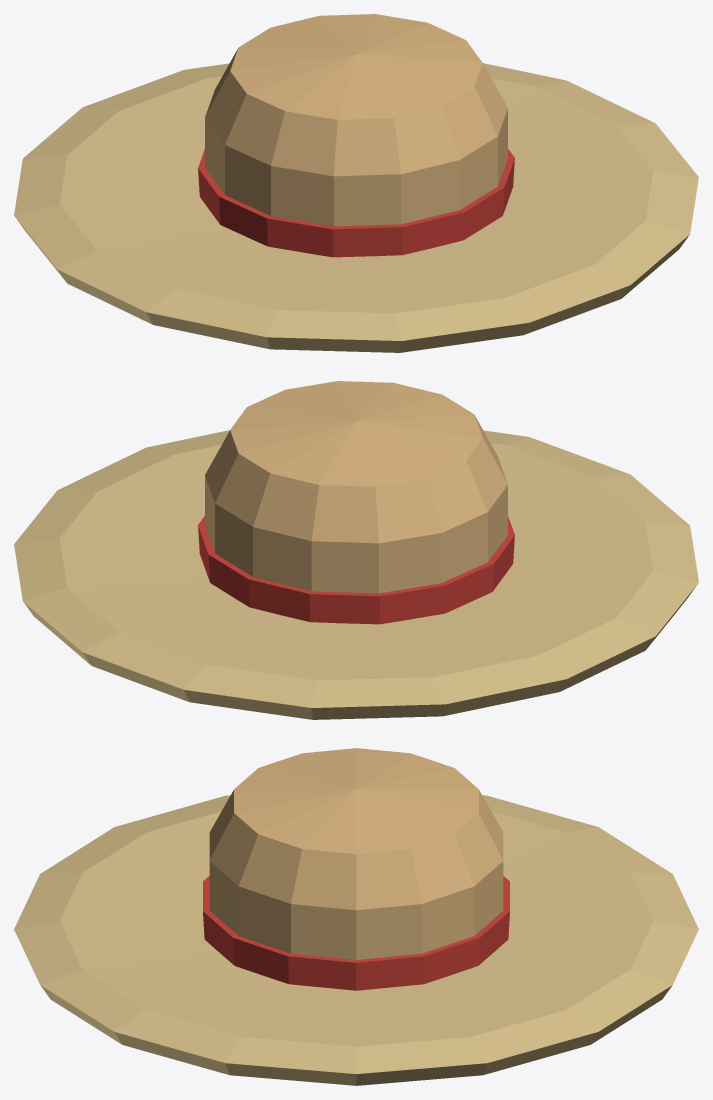
File: PRP_HomeownerHat.fbx
3 renders of one model, top to bottom at view 1: azimuth 30°, elevation 25°; view 2: azimuth 150°, elevation 25°; view 3: azimuth 270°, elevation 25°, orthographic.
Parts seen in each view (by area): view 1: PRP_HomeownerHat; view 2: PRP_HomeownerHat; view 3: PRP_HomeownerHat.
Part boxes in pixels (x1,y1,x2,y2): PRP_HomeownerHat: [14, 14, 698, 352]; PRP_HomeownerHat: [14, 381, 698, 719]; PRP_HomeownerHat: [14, 748, 698, 1085].
Bounding box in the file's own units: 3 × 0.78 × 3.
